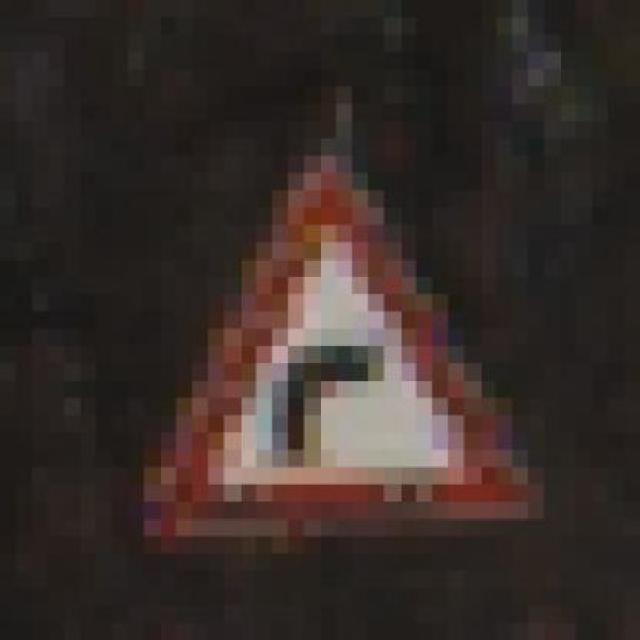Dangerous Rright Curve Ahead: (95, 138, 560, 536)
